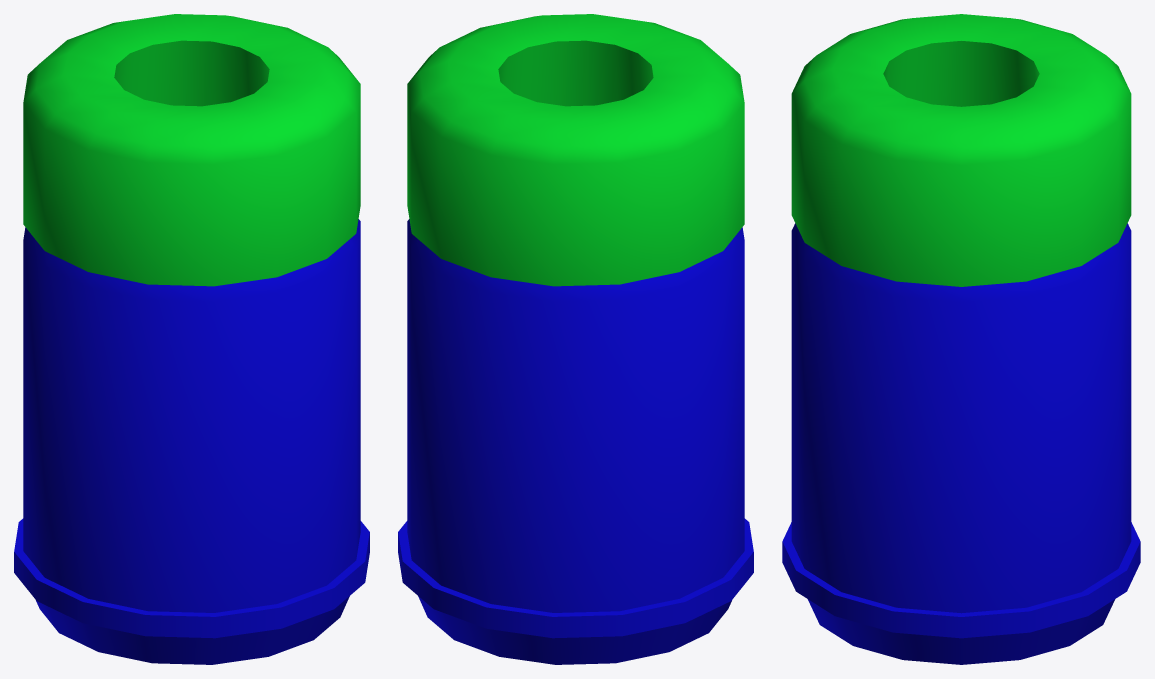
File: dustbin.fbx
The picture shows the model from 3 angles, left to right: view 1: azimuth 30°, elevation 25°; view 2: azimuth 150°, elevation 25°; view 3: azimuth 270°, elevation 25°; orthographic projection.
Visible parts, largest first — view 1: Cylinder.003; view 2: Cylinder.003; view 3: Cylinder.003.
Boxes of the visible parts, x1,y1,x2,y2 form: Cylinder.003: (14, 14, 369, 664); Cylinder.003: (398, 14, 753, 664); Cylinder.003: (782, 14, 1140, 664).
Size of the model in its own units: 62.91 by 103 by 62.91.
